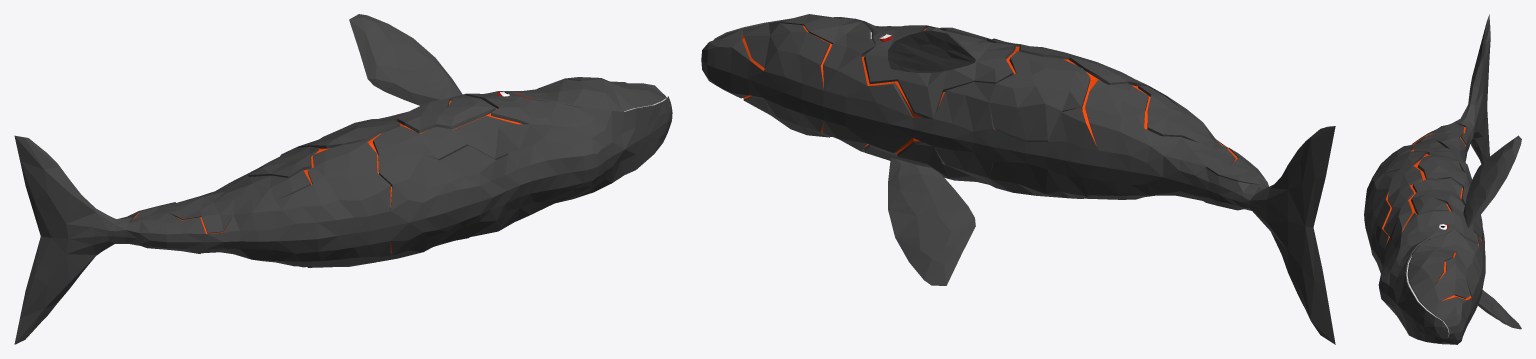
The model's file is MutatedBowheadWhale.obj.
3 renders of one model, left to right at view 1: azimuth 30°, elevation 25°; view 2: azimuth 150°, elevation 25°; view 3: azimuth 270°, elevation 25°, orthographic. The views are drawn at different scales.
Visible parts, largest first — view 1: MutatedBowheadWhale_0; view 2: MutatedBowheadWhale_0; view 3: MutatedBowheadWhale_0.
Boxes of the visible parts, x1,y1,x2,y2 form: MutatedBowheadWhale_0: [14, 14, 672, 344]; MutatedBowheadWhale_0: [701, 14, 1335, 344]; MutatedBowheadWhale_0: [1364, 14, 1521, 344].
Bounding box in the file's own units: 13.96 × 5.18 × 3.91.
Materials: 1 (1 with a texture image).
